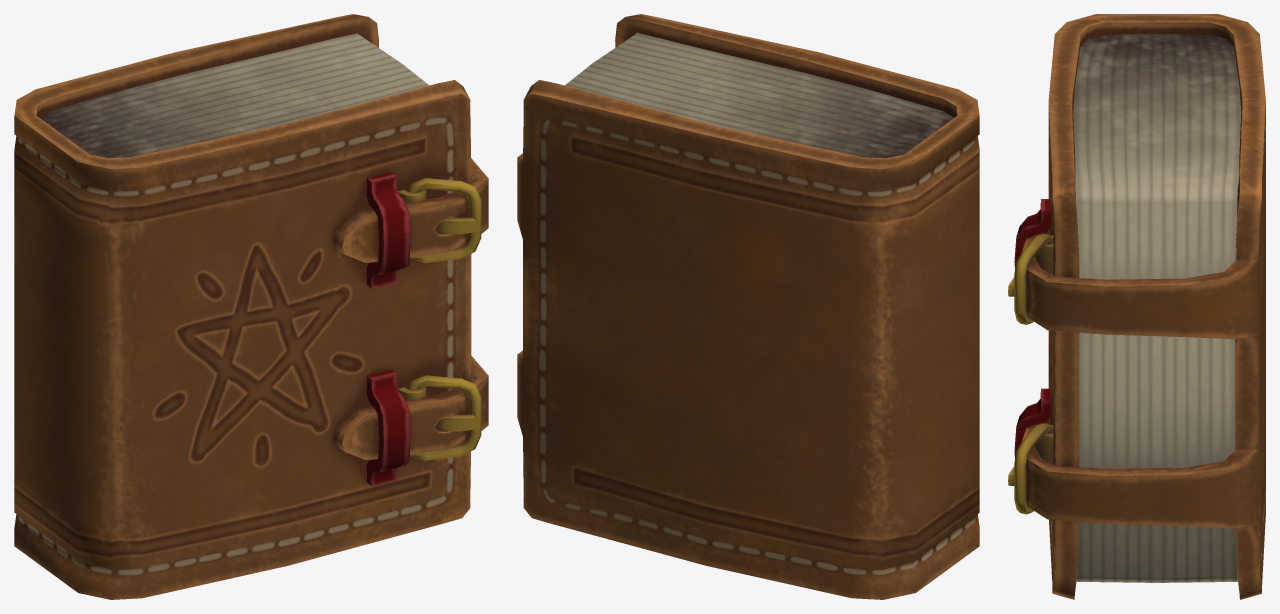
File: uploads_files_3346961_magic+book.fbx
3 views of the same model, side by side, from view 1: azimuth 30°, elevation 25°; view 2: azimuth 150°, elevation 25°; view 3: azimuth 270°, elevation 25° (orthographic). The views are drawn at different scales.
Parts seen in each view (by area): view 1: book_low.001; view 2: book_low.001; view 3: book_low.001.
Part boxes in pixels (bbox=[...]): book_low.001: bbox=[14, 14, 488, 599]; book_low.001: bbox=[517, 14, 979, 599]; book_low.001: bbox=[1008, 14, 1265, 599].
Size of the model in its own units: 24.84 by 26.07 by 14.6.
